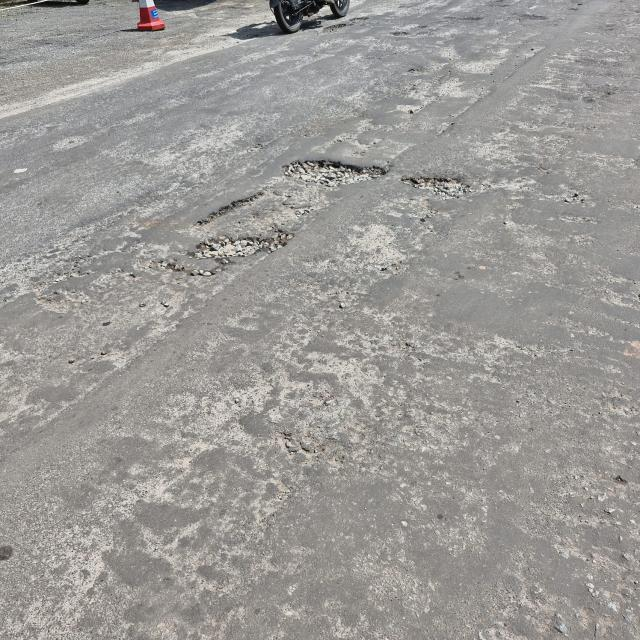pothole: (157, 143, 394, 281), (402, 159, 474, 217)
